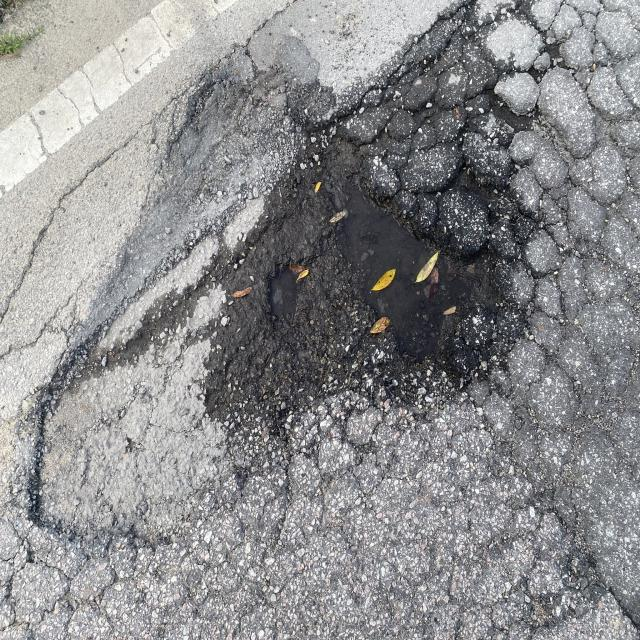pothole: (160, 73, 539, 474), (5, 376, 114, 566)
